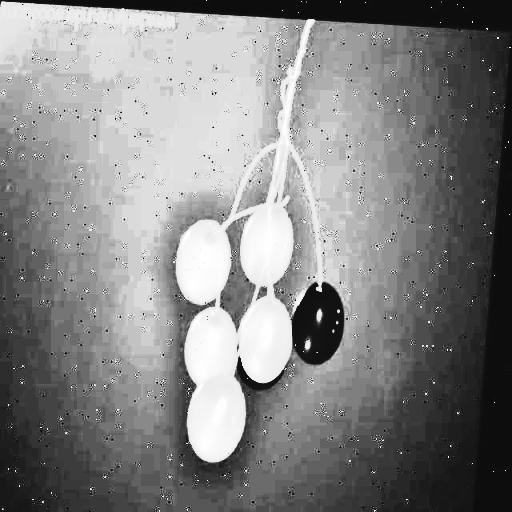balloon: (189, 363, 260, 469), (173, 201, 240, 309), (292, 260, 356, 366), (239, 285, 303, 385), (240, 194, 302, 284), (186, 306, 244, 387)
